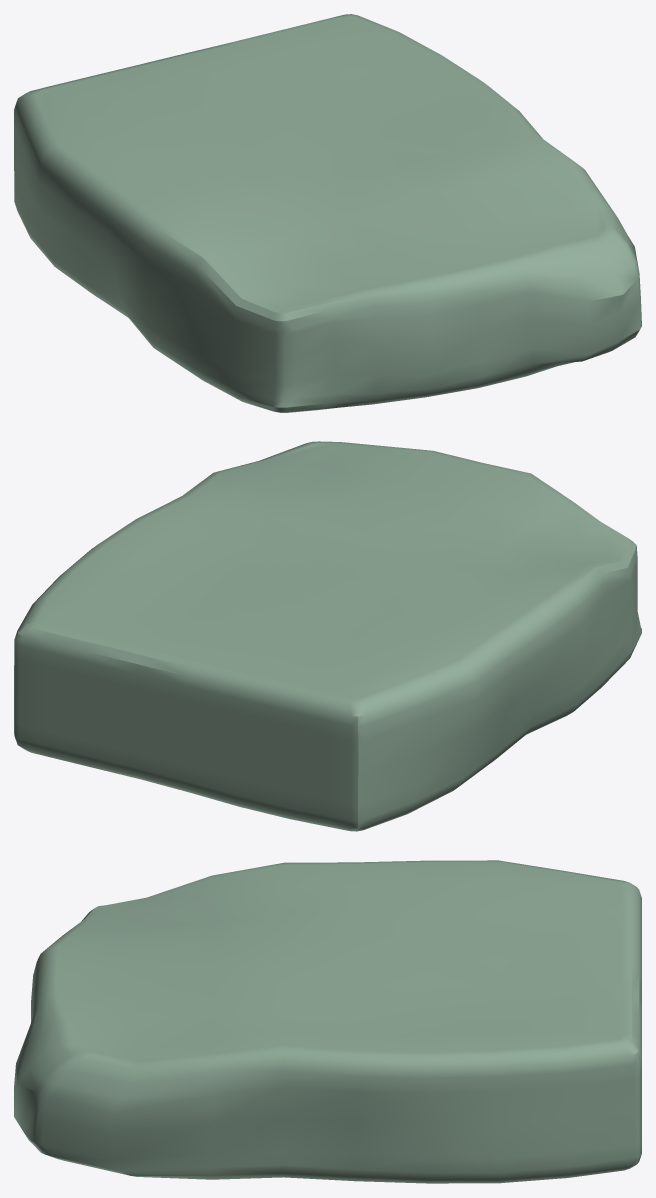
File: LP_WallRock.fbx
3 views of the same model, one above another, from view 1: azimuth 30°, elevation 25°; view 2: azimuth 150°, elevation 25°; view 3: azimuth 270°, elevation 25° (orthographic).
Parts seen in each view (by area): view 1: LP_WallRock; view 2: LP_WallRock; view 3: LP_WallRock.
Boxes of the visible parts, left/top/right/bottom form: LP_WallRock: left=14, top=14, right=641, bottom=412; LP_WallRock: left=14, top=441, right=641, bottom=831; LP_WallRock: left=14, top=860, right=641, bottom=1183.
Size of the model in its own units: 1.55 by 0.4983 by 1.99.
